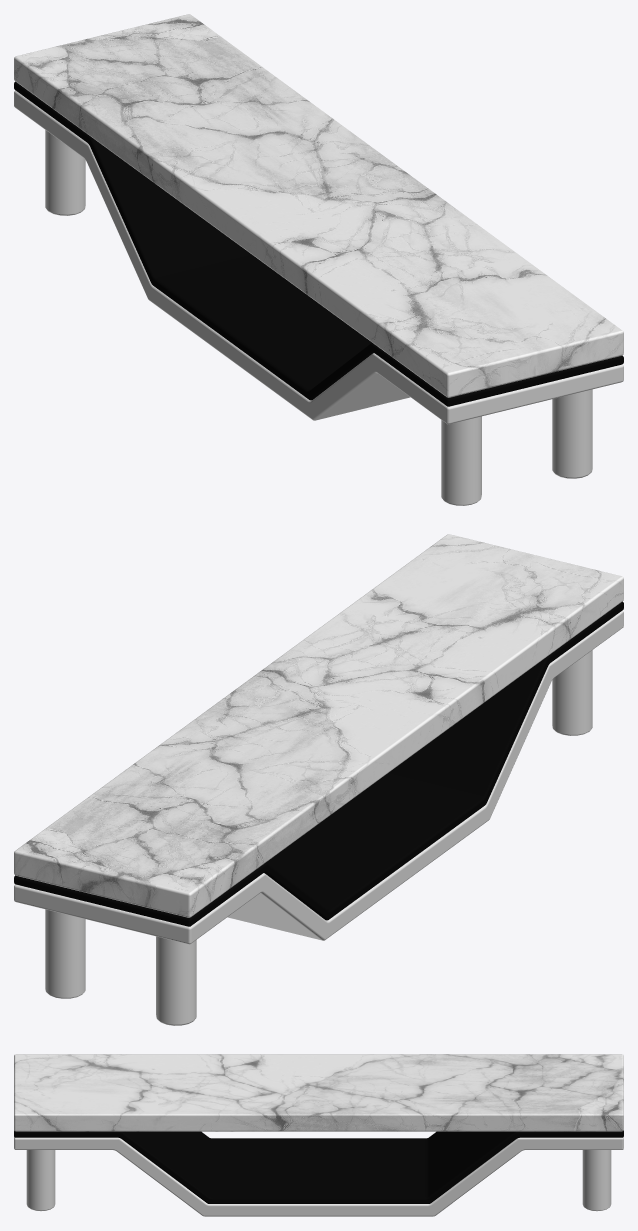
File: marble_table_2.glb
3 renders of one model, top to bottom at view 1: azimuth 30°, elevation 25°; view 2: azimuth 150°, elevation 25°; view 3: azimuth 270°, elevation 25°, orthographic. The views are drawn at different scales.
Visible parts, largest first — view 1: Plane.009, Plane.011, Plane.010, Circle.008; view 2: Plane.009, Plane.011, Plane.010, Circle.008; view 3: Plane.009, Plane.011, Plane.010, Circle.008.
Boxes of the visible parts, x1,y1,x2,y2 form: Plane.009: (14,14,623,397); Plane.011: (14,81,623,406); Plane.010: (14,90,623,424); Circle.008: (45,130,592,505); Plane.009: (14,534,623,917); Plane.011: (14,601,623,926); Plane.010: (14,610,623,944); Circle.008: (45,650,592,1025); Plane.009: (14,1054,623,1131); Plane.011: (14,1130,623,1203); Plane.010: (14,1136,623,1216); Circle.008: (26,1150,611,1211).
Size of the model in its own units: 1.24 by 0.9767 by 5.26.
4 materials, 1 textured.
